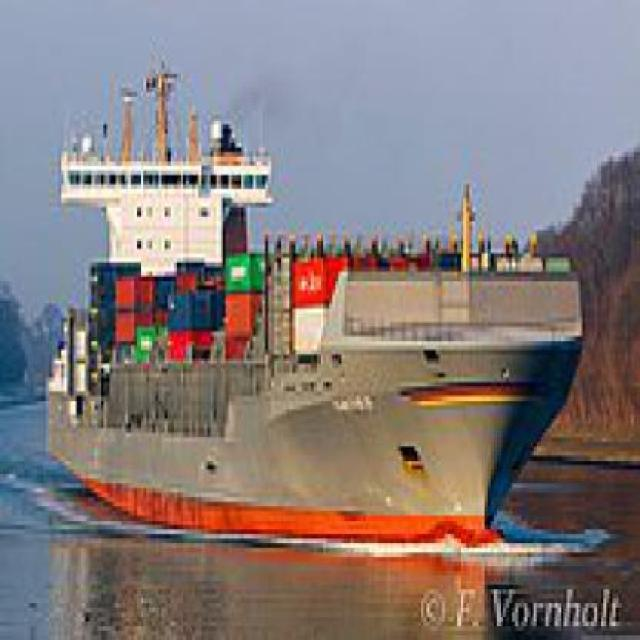container: (28, 33, 596, 558)
